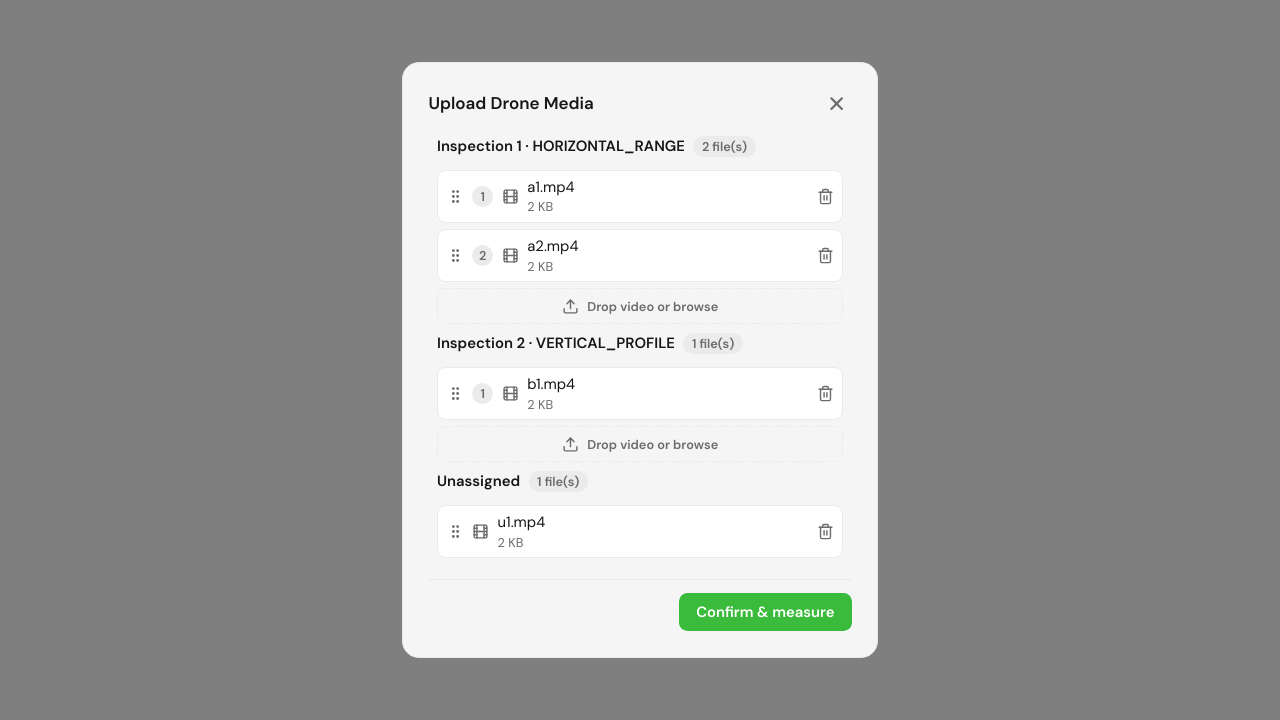
Test case: UploadDroneMediaDialog › stays open with an error when every run fails to start
The image size is (1280, 720).
Click the button with test id "confirm-measurements" at x=765, y=612, box [679,593,852,631]
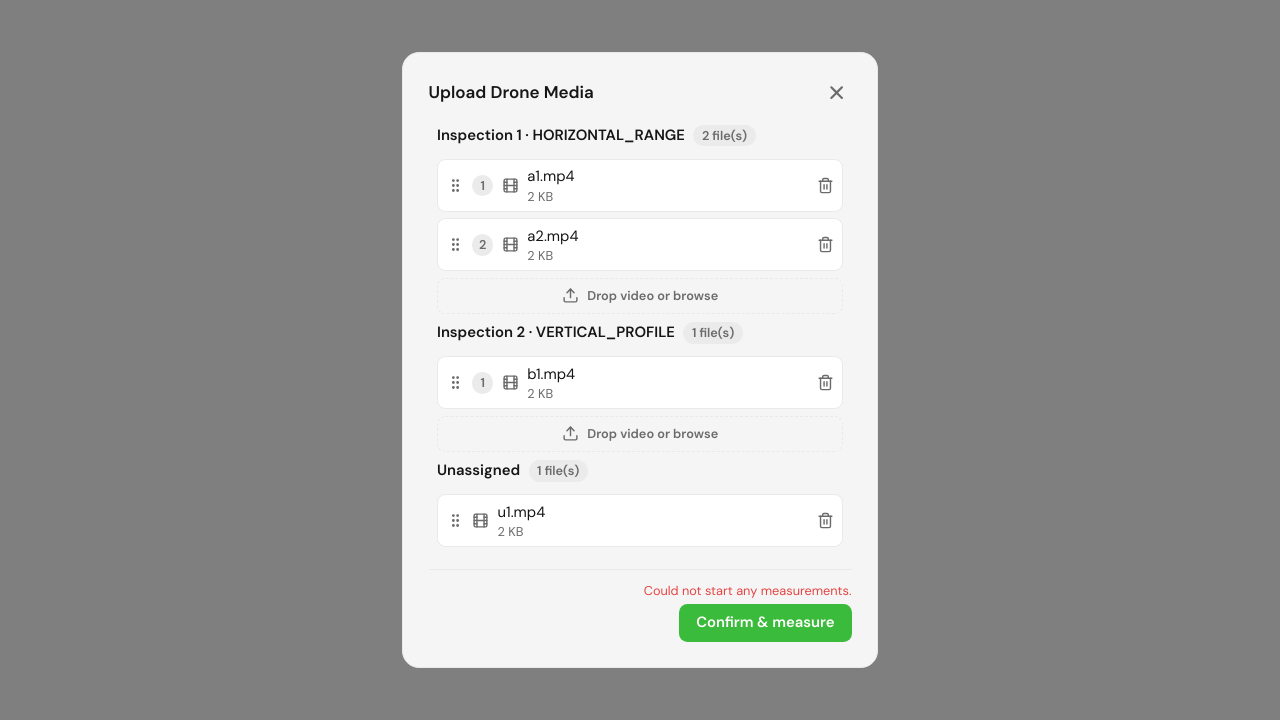
expect the text "Could not start any measurements." is shown: met, box [644,582,852,599]
